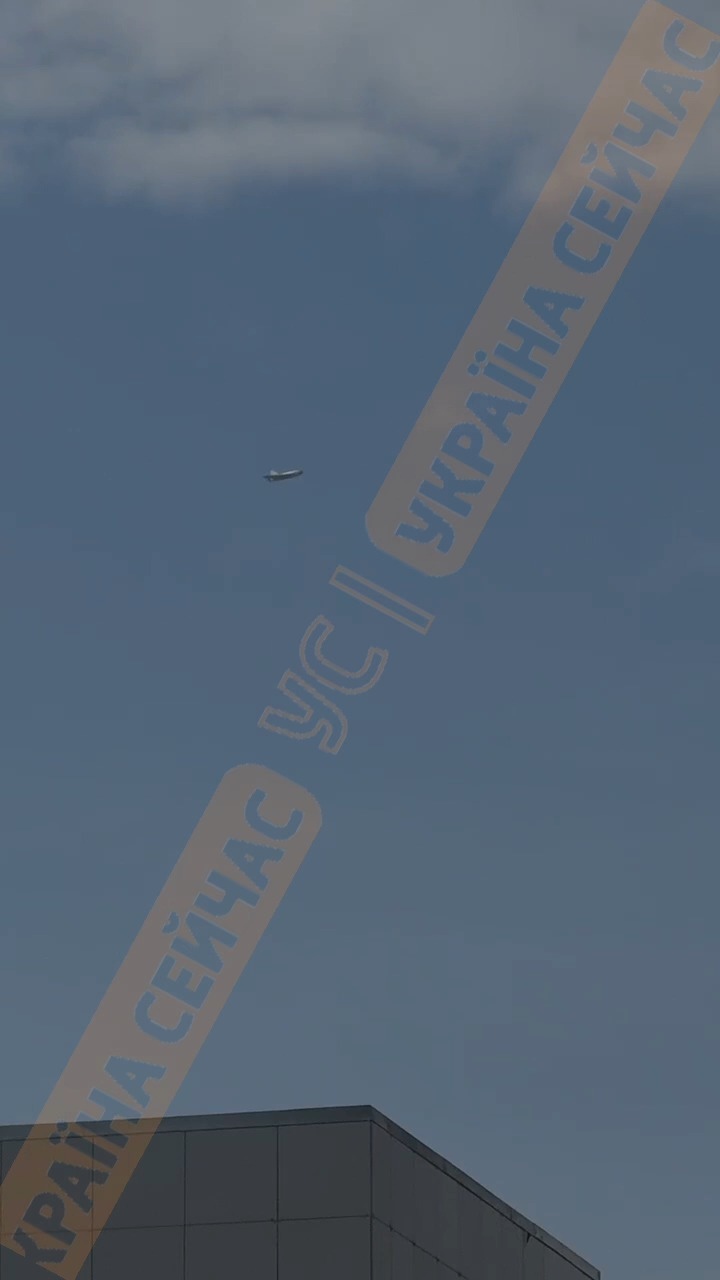shahed: (261, 459, 310, 490)
